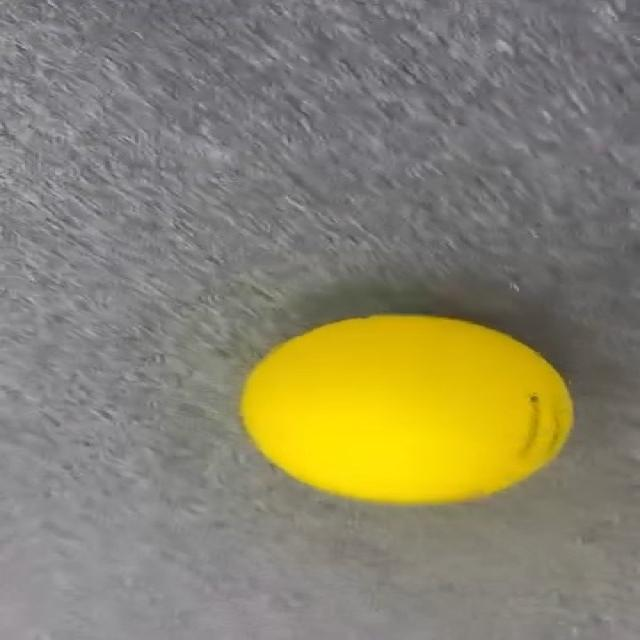Fuels: (244, 315, 571, 500)
